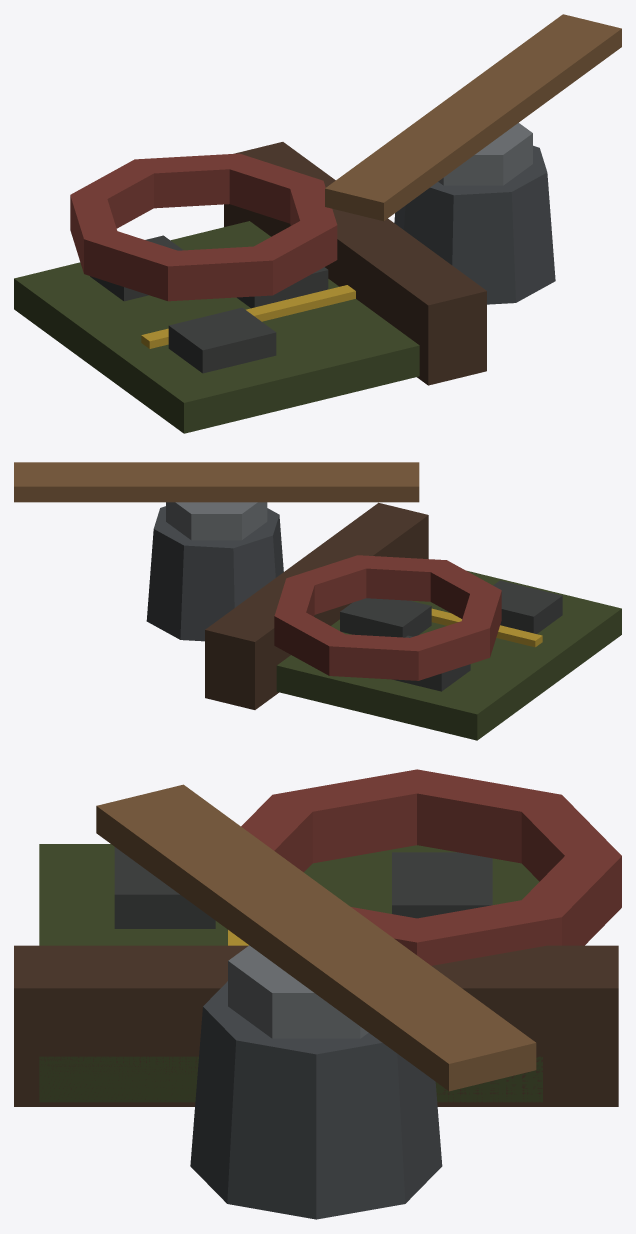
Rendered from item_drone_parts.glb.
3 views of the same model, one above another, from view 1: azimuth 30°, elevation 25°; view 2: azimuth 150°, elevation 25°; view 3: azimuth 270°, elevation 25° (orthographic). The views are drawn at different scales.
Visible parts, largest first — view 1: drone_parts; view 2: drone_parts; view 3: drone_parts.
Part boxes in pixels (x1,y1,x2,y2): drone_parts: [14, 14, 621, 433]; drone_parts: [14, 462, 621, 740]; drone_parts: [14, 769, 621, 1219].
Size of the model in its own units: 0.3912 by 0.108 by 0.2413.
